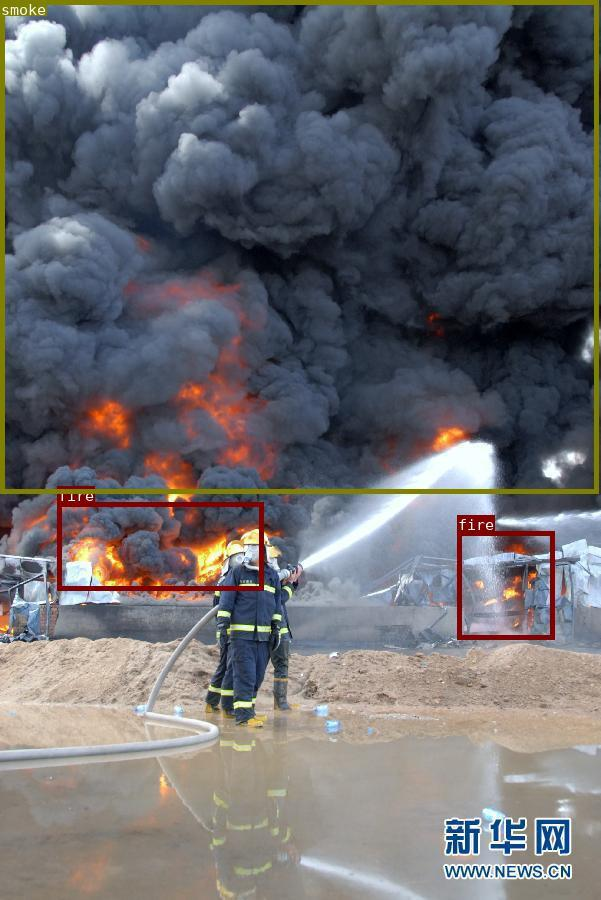fire: (57, 502, 262, 589), (456, 531, 554, 639)
smoke: (0, 0, 598, 493)
